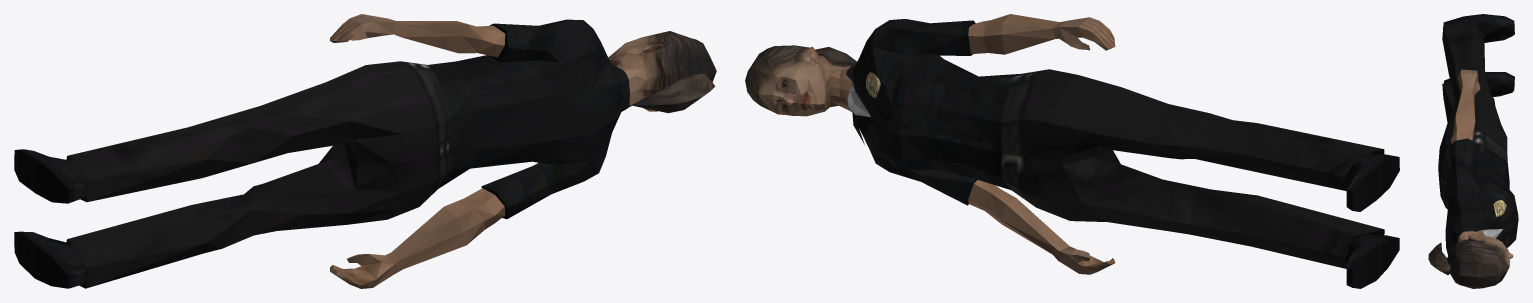
Rendered from wfyclpd.obj.
3 renders of one model, left to right at view 1: azimuth 30°, elevation 25°; view 2: azimuth 150°, elevation 25°; view 3: azimuth 270°, elevation 25°, orthographic. The views are drawn at different scales.
Visible parts, largest first — view 1: noname_0; view 2: noname_0; view 3: noname_0.
Part boxes in pixels (x1=…): noname_0: x1=14, y1=14, x2=716, y2=288; noname_0: x1=745, y1=14, x2=1399, y2=288; noname_0: x1=1428, y1=14, x2=1518, y2=288.
Bounding box in the file's own units: 1.81 × 0.6857 × 0.3109.
1 material, 1 textured.
